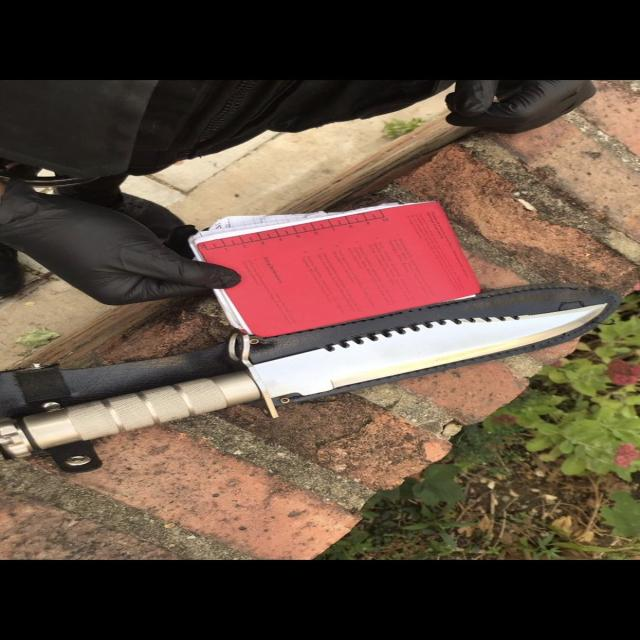Sharp-Object: (0, 302, 605, 463)
